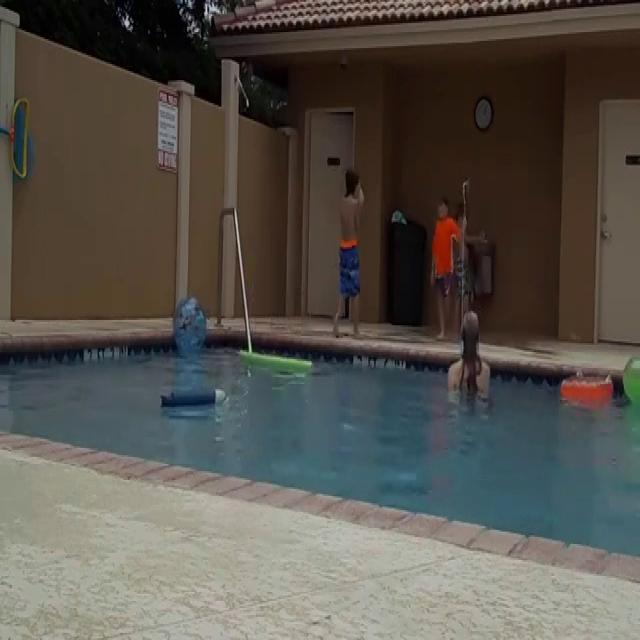adult: (445, 315, 495, 413)
child: (333, 167, 364, 339), (451, 194, 487, 340), (431, 192, 454, 336)
